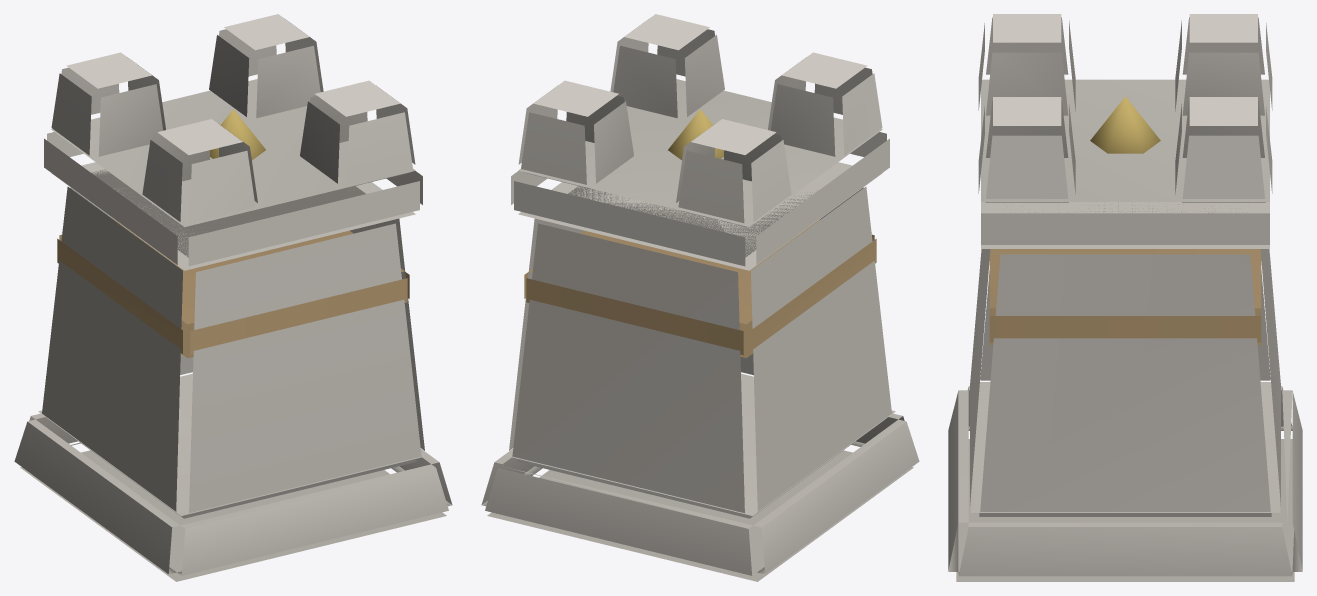
The model's file is wall_pillar_lod2.glb.
3 views of the same model, side by side, from view 1: azimuth 30°, elevation 25°; view 2: azimuth 150°, elevation 25°; view 3: azimuth 270°, elevation 25° (orthographic). The views are drawn at different scales.
Visible parts, largest first — view 1: wall_pillar.001; view 2: wall_pillar.001; view 3: wall_pillar.001.
Boxes of the visible parts, x1=… form: wall_pillar.001: x1=14, y1=14, x2=452, y2=581; wall_pillar.001: x1=481, y1=14, x2=919, y2=581; wall_pillar.001: x1=948, y1=14, x2=1302, y2=581.
Size of the model in its own units: 1.23 by 1.68 by 1.23.
